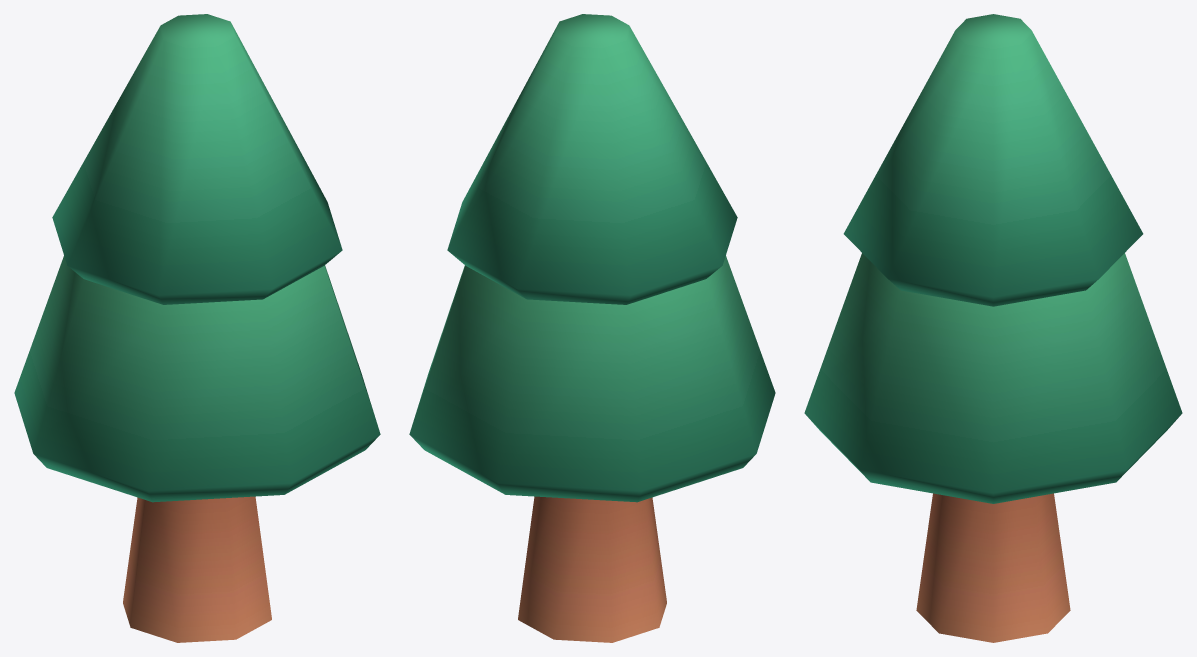
The model's file is tree.glb.
3 renders of one model, left to right at view 1: azimuth 30°, elevation 25°; view 2: azimuth 150°, elevation 25°; view 3: azimuth 270°, elevation 25°, orthographic.
Parts seen in each view (by area): view 1: tree; view 2: tree; view 3: tree.
Boxes of the visible parts, x1,y1,x2,y2 form: tree: [14, 14, 380, 642]; tree: [409, 14, 775, 642]; tree: [804, 14, 1182, 642].
Bounding box in the file's own units: 0.4906 × 0.8307 × 0.4906.
Materials: 1 (1 with a texture image).
